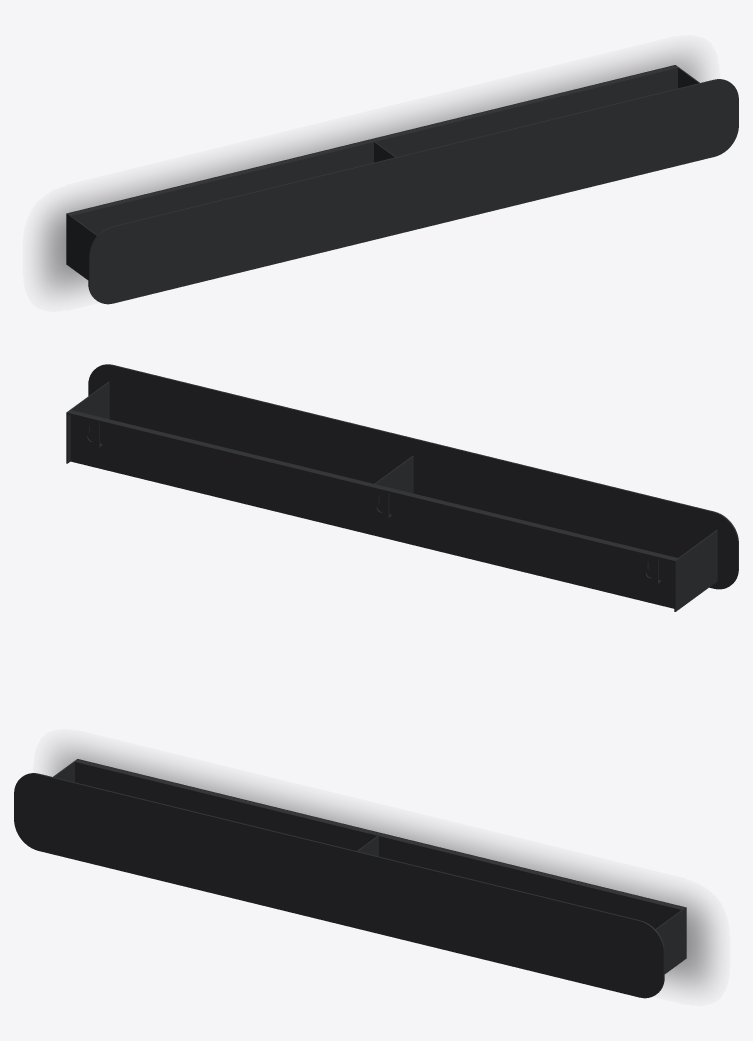
The model's file is radius-mono.dbbbe91a60.ar.glb.
The picture shows the model from 3 angles, top to bottom: view 1: azimuth 30°, elevation 25°; view 2: azimuth 150°, elevation 25°; view 3: azimuth 330°, elevation 25°; orthographic projection.
Visible parts, largest first — view 1: NAUO1, object 2; view 2: NAUO1; view 3: NAUO1, object 2.
Part boxes in pixels (box(x1,y1,x2,y2)): NAUO1: box(66, 65, 738, 304); object 2: box(38, 53, 703, 293); NAUO1: box(66, 364, 738, 611); NAUO1: box(14, 759, 686, 998); object 2: box(49, 747, 714, 987).
Size of the model in its own units: 0.88 by 0.17 by 0.092.
Materials: 2 (1 with a texture image).
